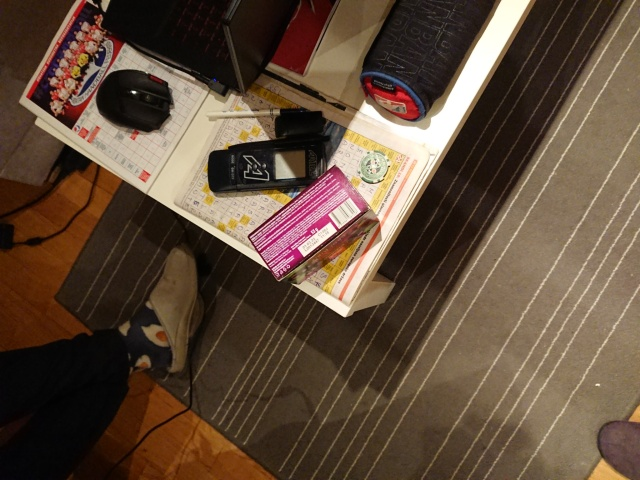Franck Black Currant Tea 60g: (245, 163, 381, 286)
